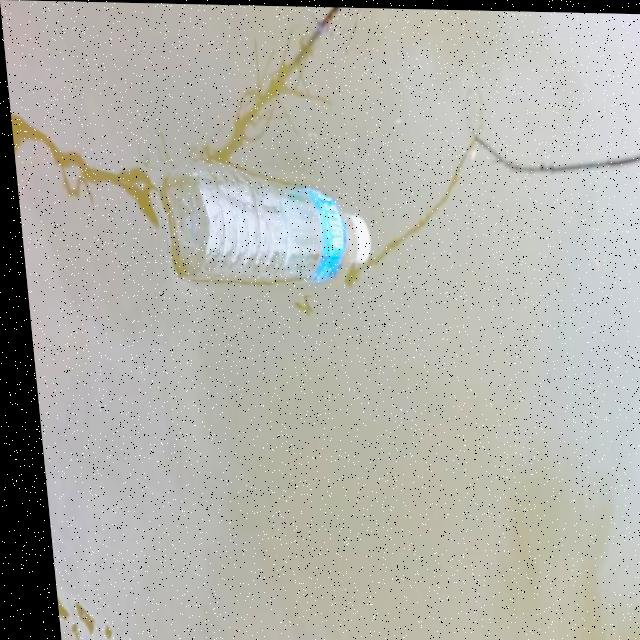waterbottle: (148, 169, 374, 289)
